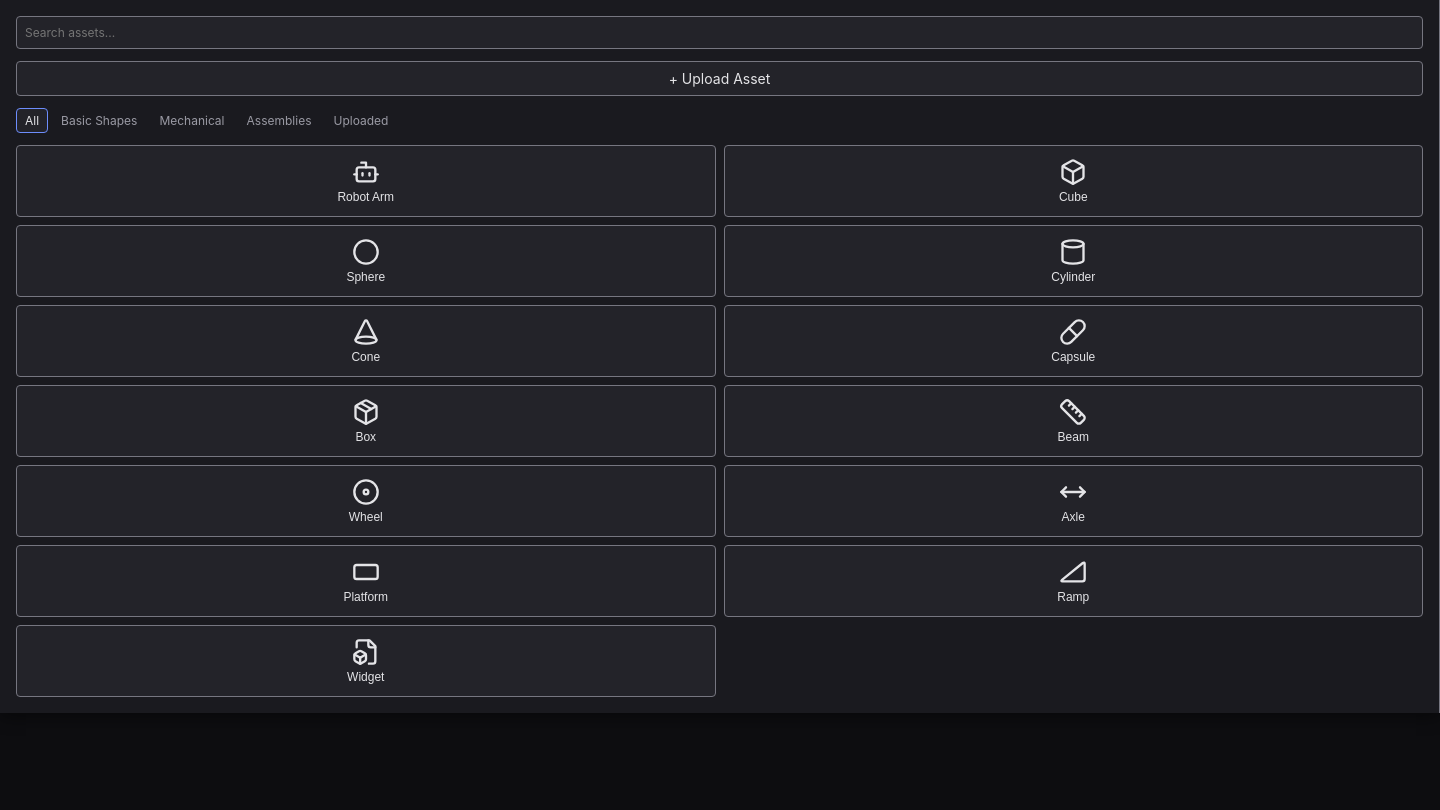
Test case: AssetLibraryPanel › "Uploaded" asset library category (§11, M5.7) › typing a filter string matching only an uploaded card's label filters the grid to that card
Step 1. Type "widg" into the search field labelled "Search assets" → coordinates (720, 32), box [16,16,1423,49]
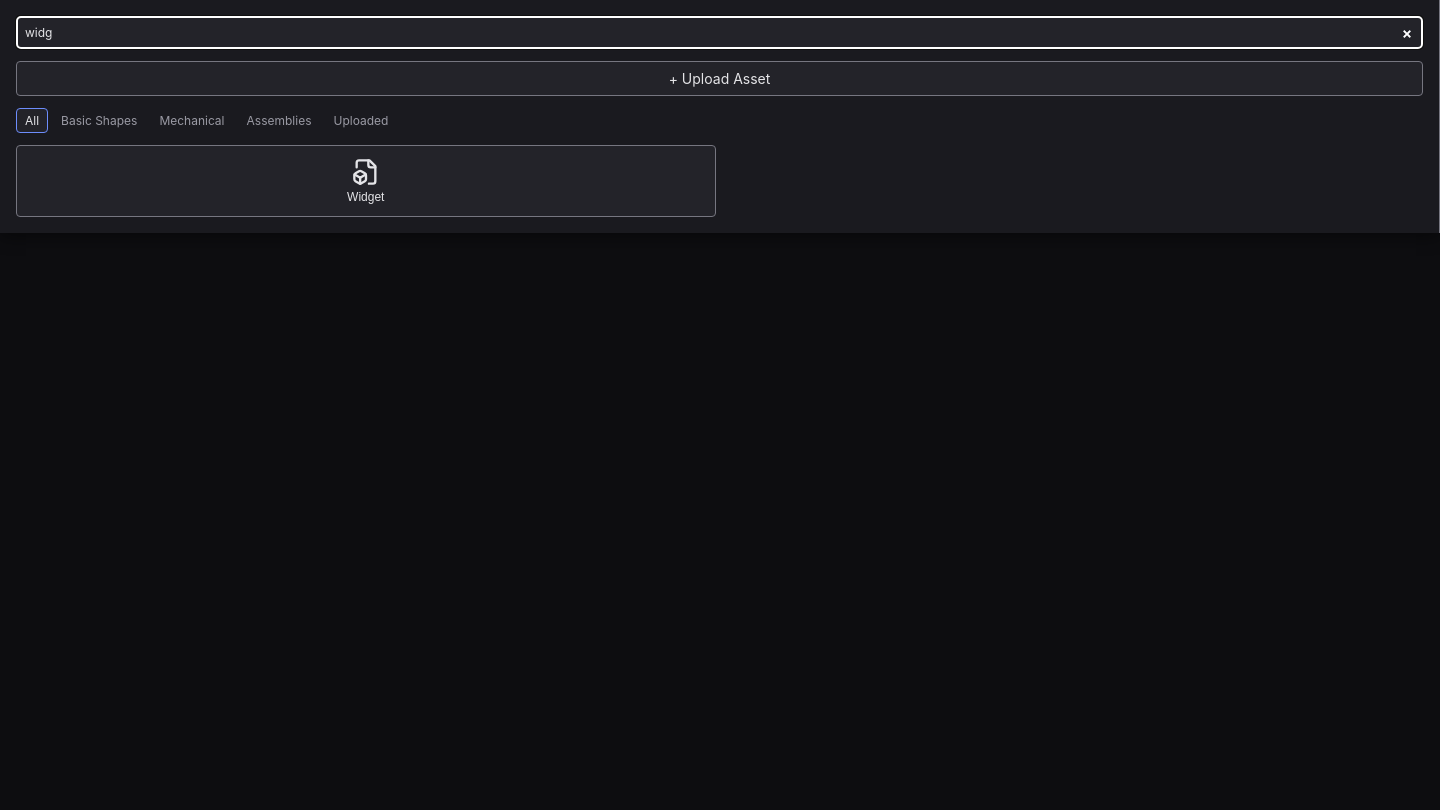
Expected: the button "Widget" is shown, [16,145,716,217]
Result: the button "Cube" is gone
